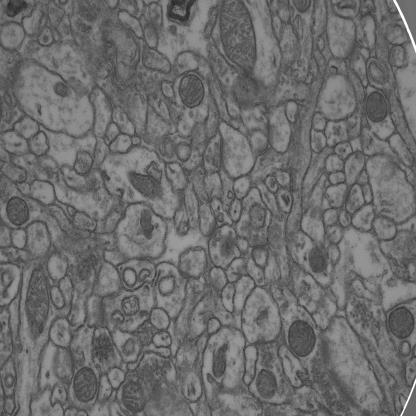mitochondria: (218, 0, 258, 74), (24, 266, 51, 336), (287, 321, 317, 358), (127, 171, 162, 199), (121, 379, 148, 415), (72, 366, 98, 403), (178, 74, 206, 108), (388, 306, 416, 339), (365, 89, 388, 123), (255, 366, 278, 399), (5, 196, 30, 226), (307, 242, 328, 274), (212, 343, 228, 379)
